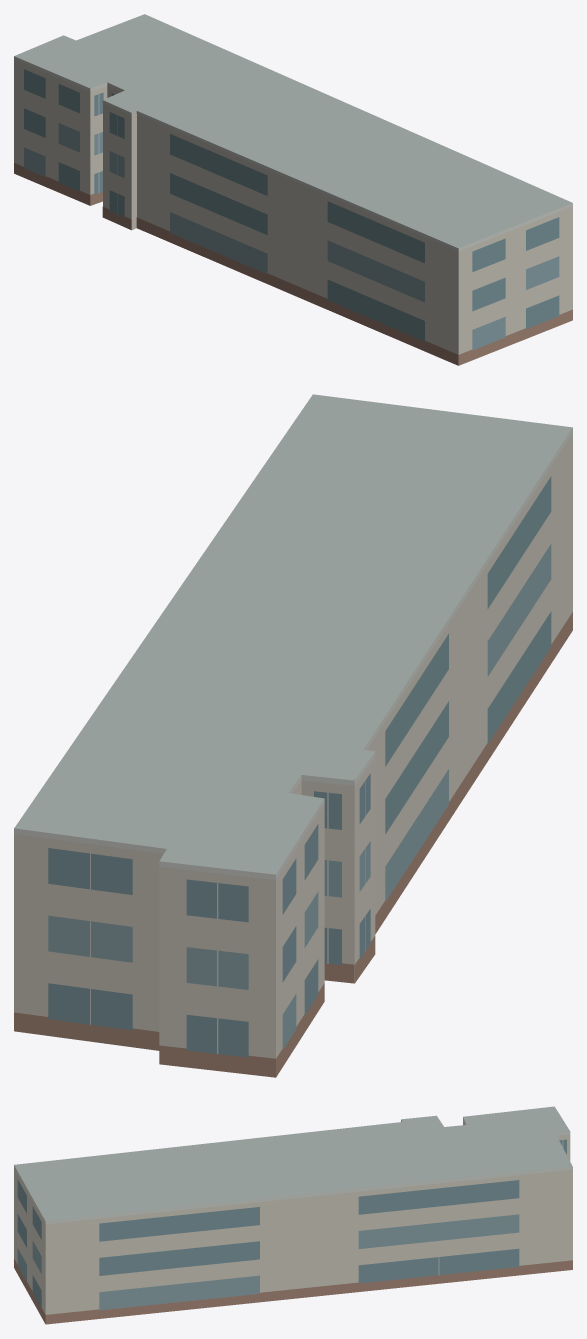
The model's file is survey-upis-32470412.glb.
3 views of the same model, one above another, from view 1: azimuth 30°, elevation 25°; view 2: azimuth 150°, elevation 25°; view 3: azimuth 270°, elevation 25° (orthographic). The views are drawn at different scales.
Visible parts, largest first — view 1: survey-upis-32470412.tmp; view 2: survey-upis-32470412.tmp; view 3: survey-upis-32470412.tmp.
Boxes of the visible parts, x1,y1,x2,y2 form: survey-upis-32470412.tmp: (14, 14, 572, 365); survey-upis-32470412.tmp: (14, 394, 572, 1077); survey-upis-32470412.tmp: (14, 1106, 572, 1324).
Size of the model in its own units: 21.92 by 9.15 by 45.
